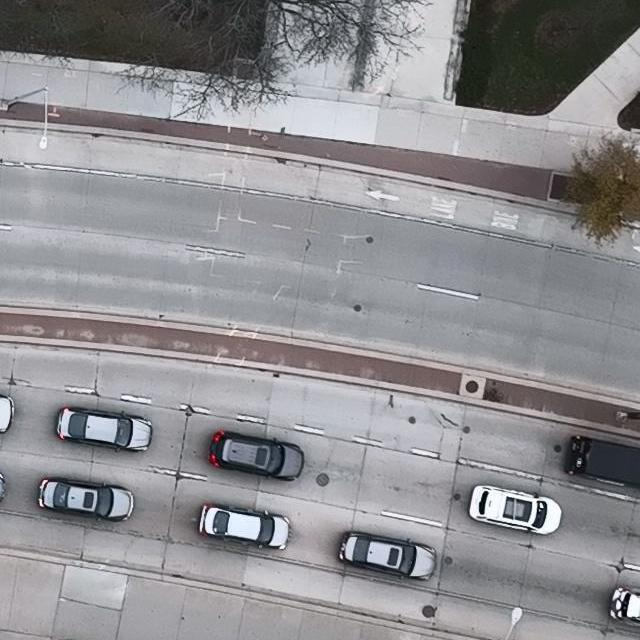car: (338, 531, 437, 582), (208, 429, 304, 480), (466, 485, 562, 534), (54, 405, 152, 453), (37, 476, 135, 523), (197, 504, 291, 551), (563, 433, 640, 489), (610, 585, 640, 628), (0, 395, 14, 433)
